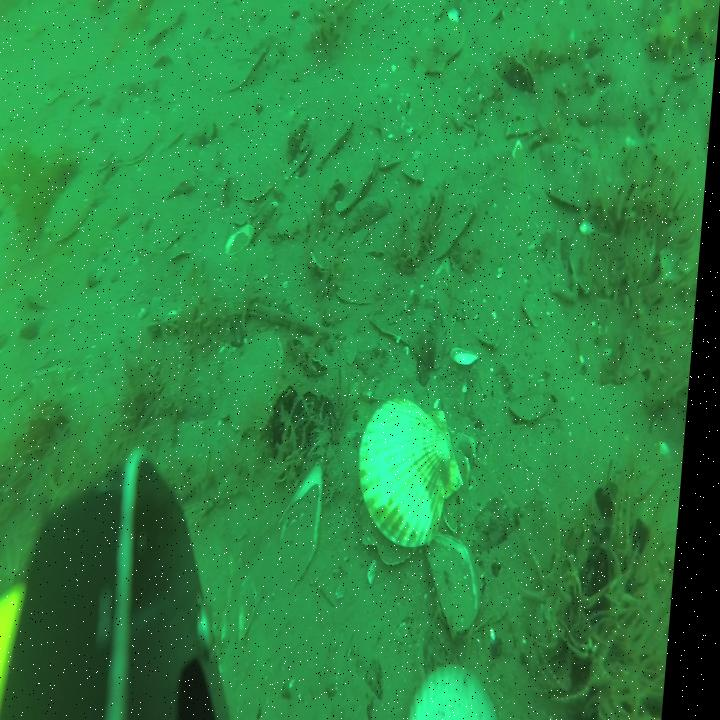scallop: (360, 395, 478, 558), (223, 334, 293, 437), (378, 71, 436, 144), (410, 19, 470, 82), (48, 176, 97, 248), (334, 143, 385, 208), (242, 144, 289, 202), (118, 118, 163, 166), (317, 116, 360, 165), (516, 389, 558, 427), (402, 153, 434, 184), (378, 144, 406, 176)
